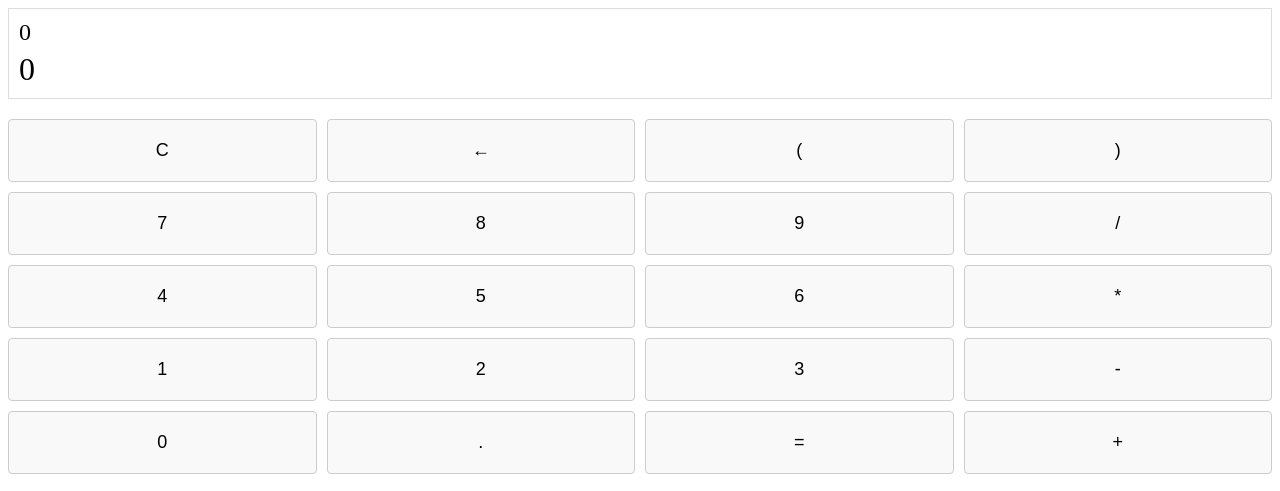
Scenario: CalculatorPanel 컴포넌트 › 숫자 버튼을 클릭하면 식에 숫자가 추가된다
Click the button named "숫자 1" at (162, 370), box [8,338,316,401]
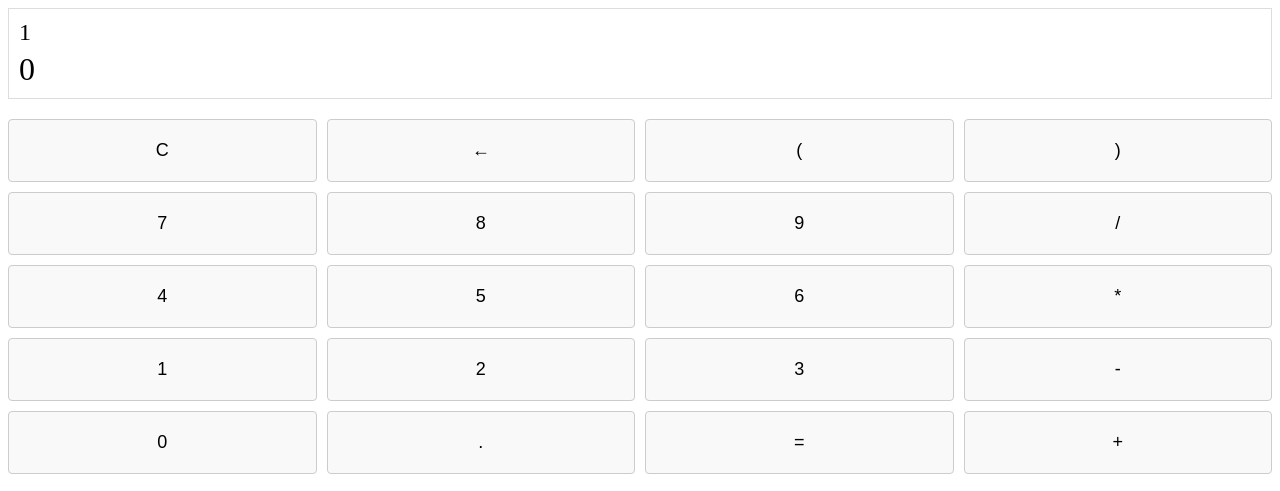
Expected: the text named "수식" reads "1", [19,19,31,45]
